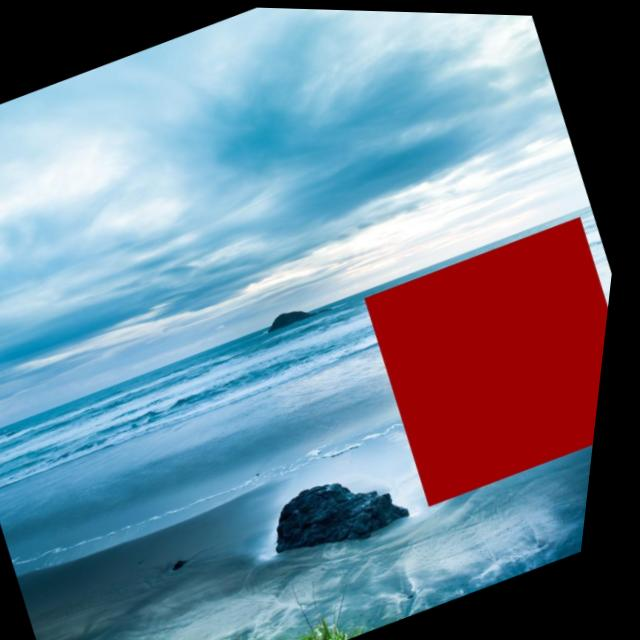RedSquare: (347, 200, 623, 513)
